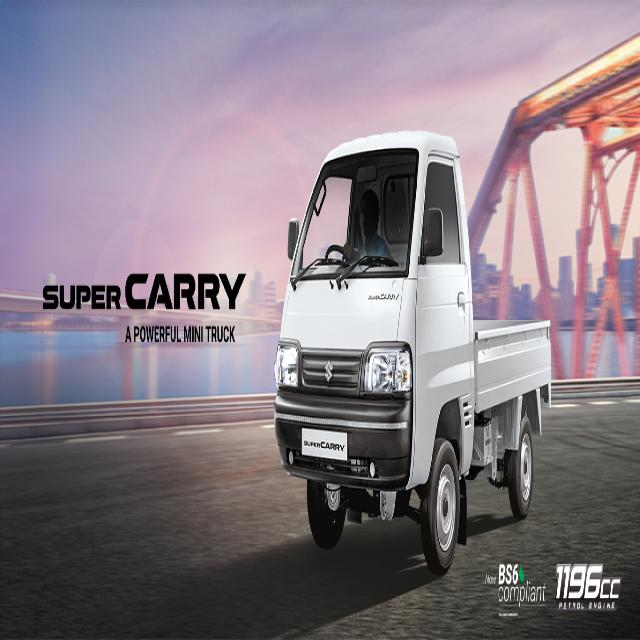truck: (275, 132, 550, 574)
